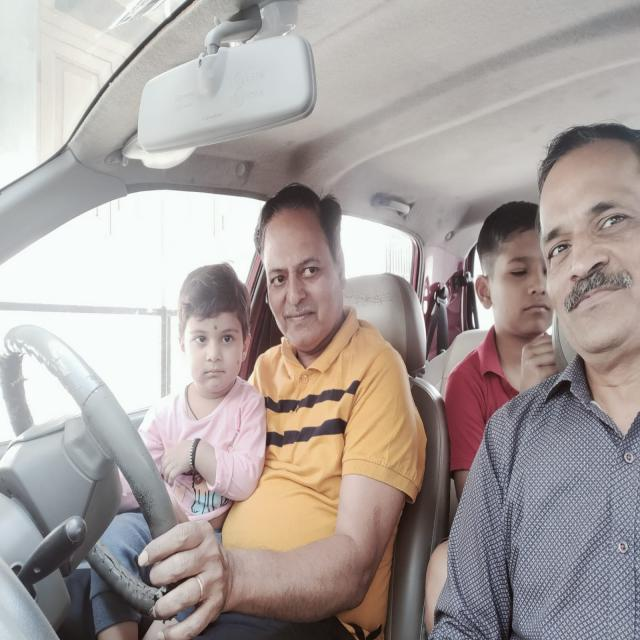child: (171, 251, 257, 416)
person: (537, 119, 640, 408), (247, 169, 357, 361), (465, 180, 559, 353)
